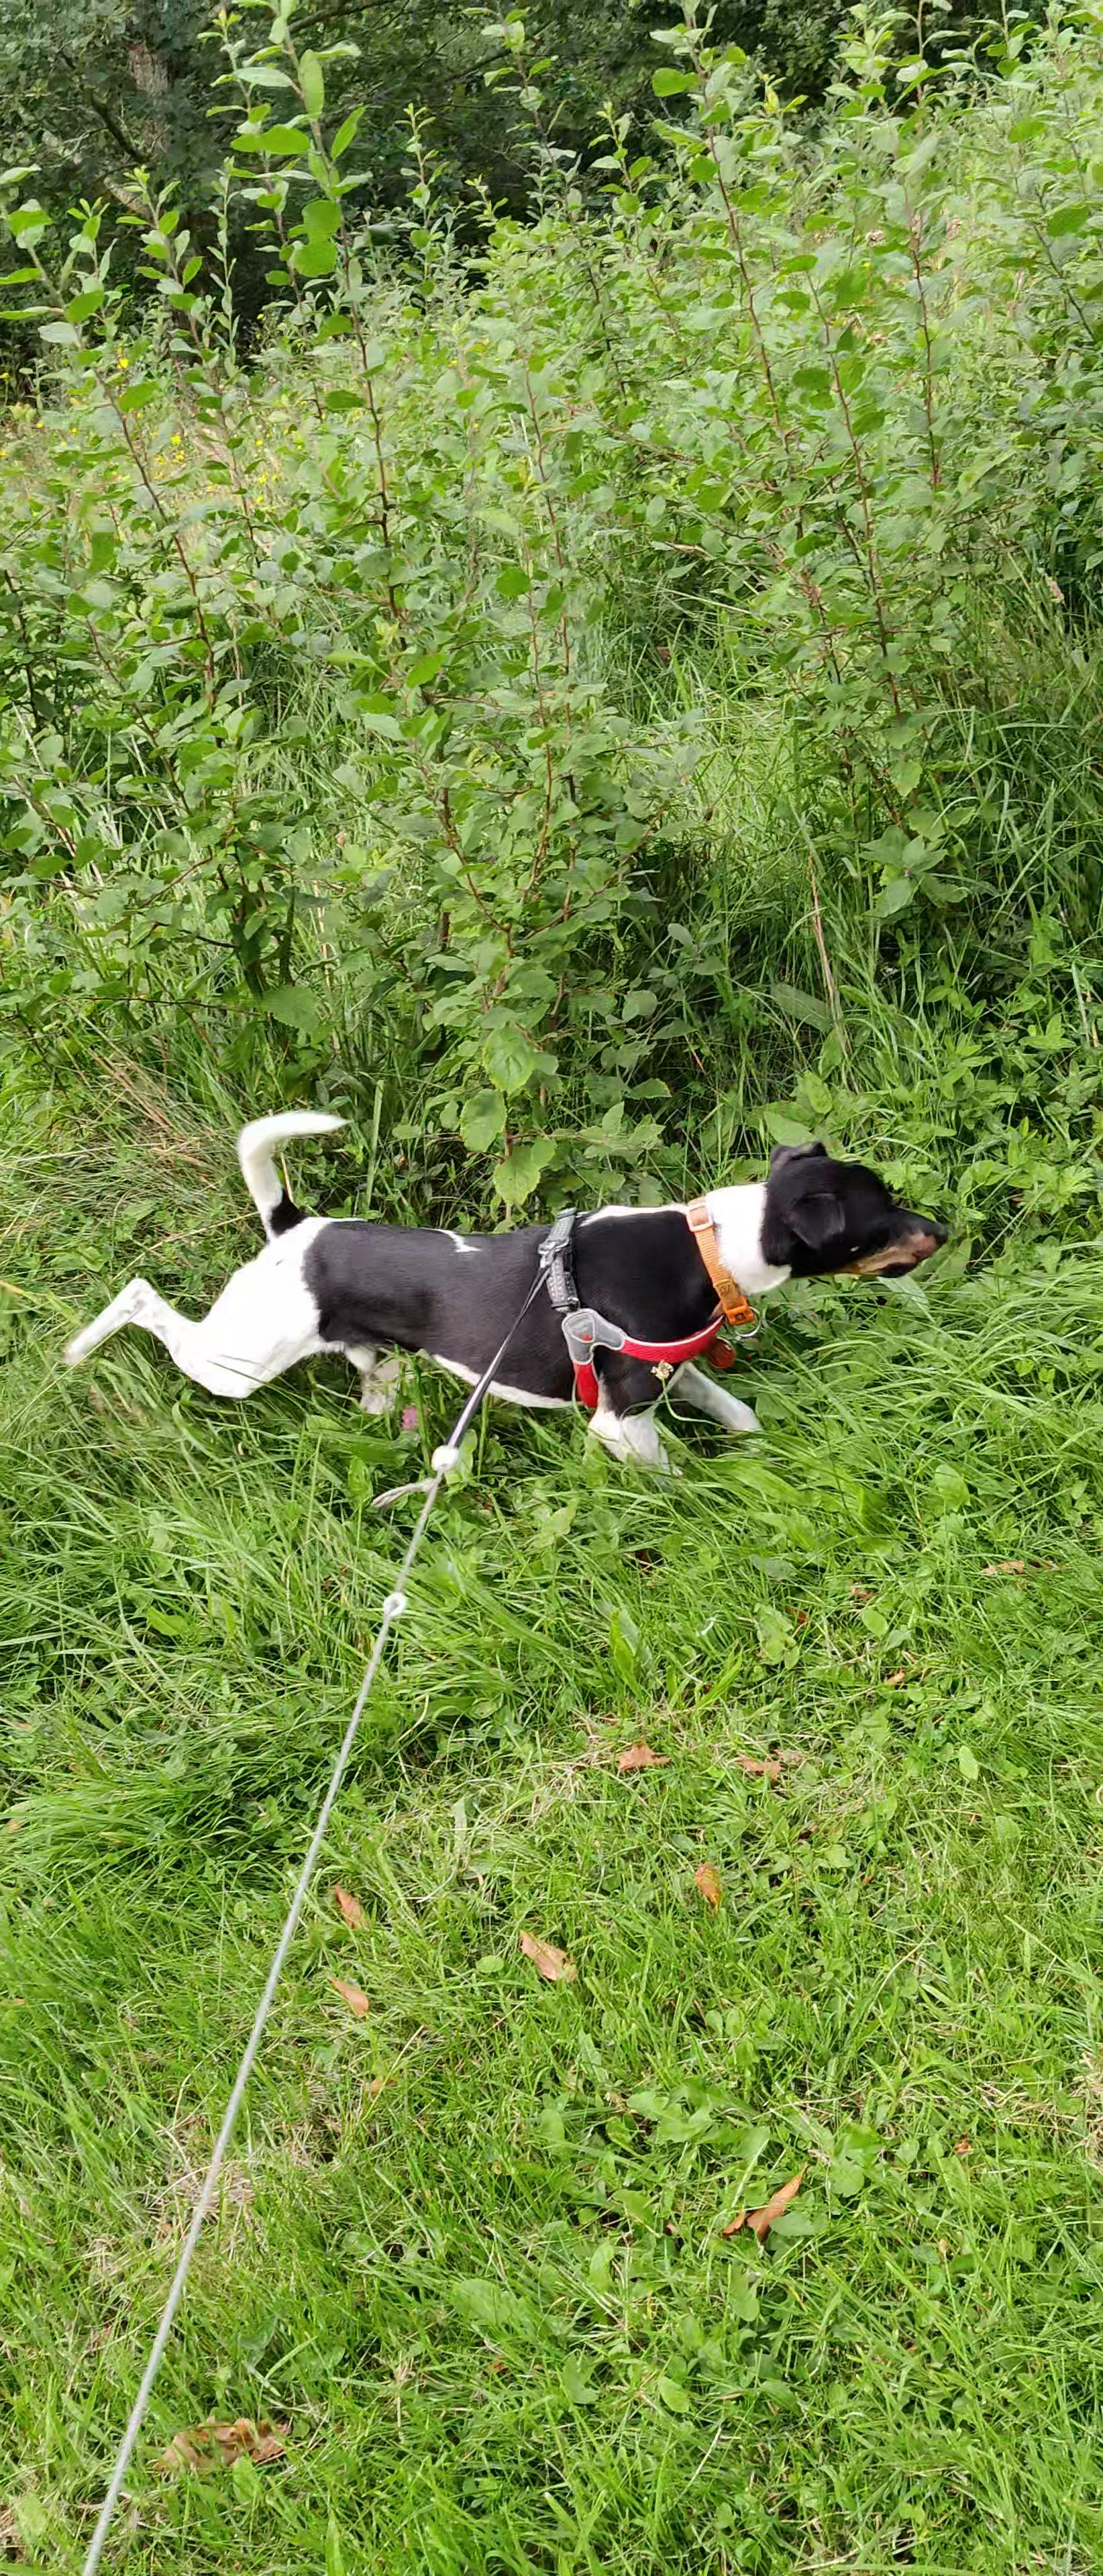Dog: (53, 1088, 960, 1483)
